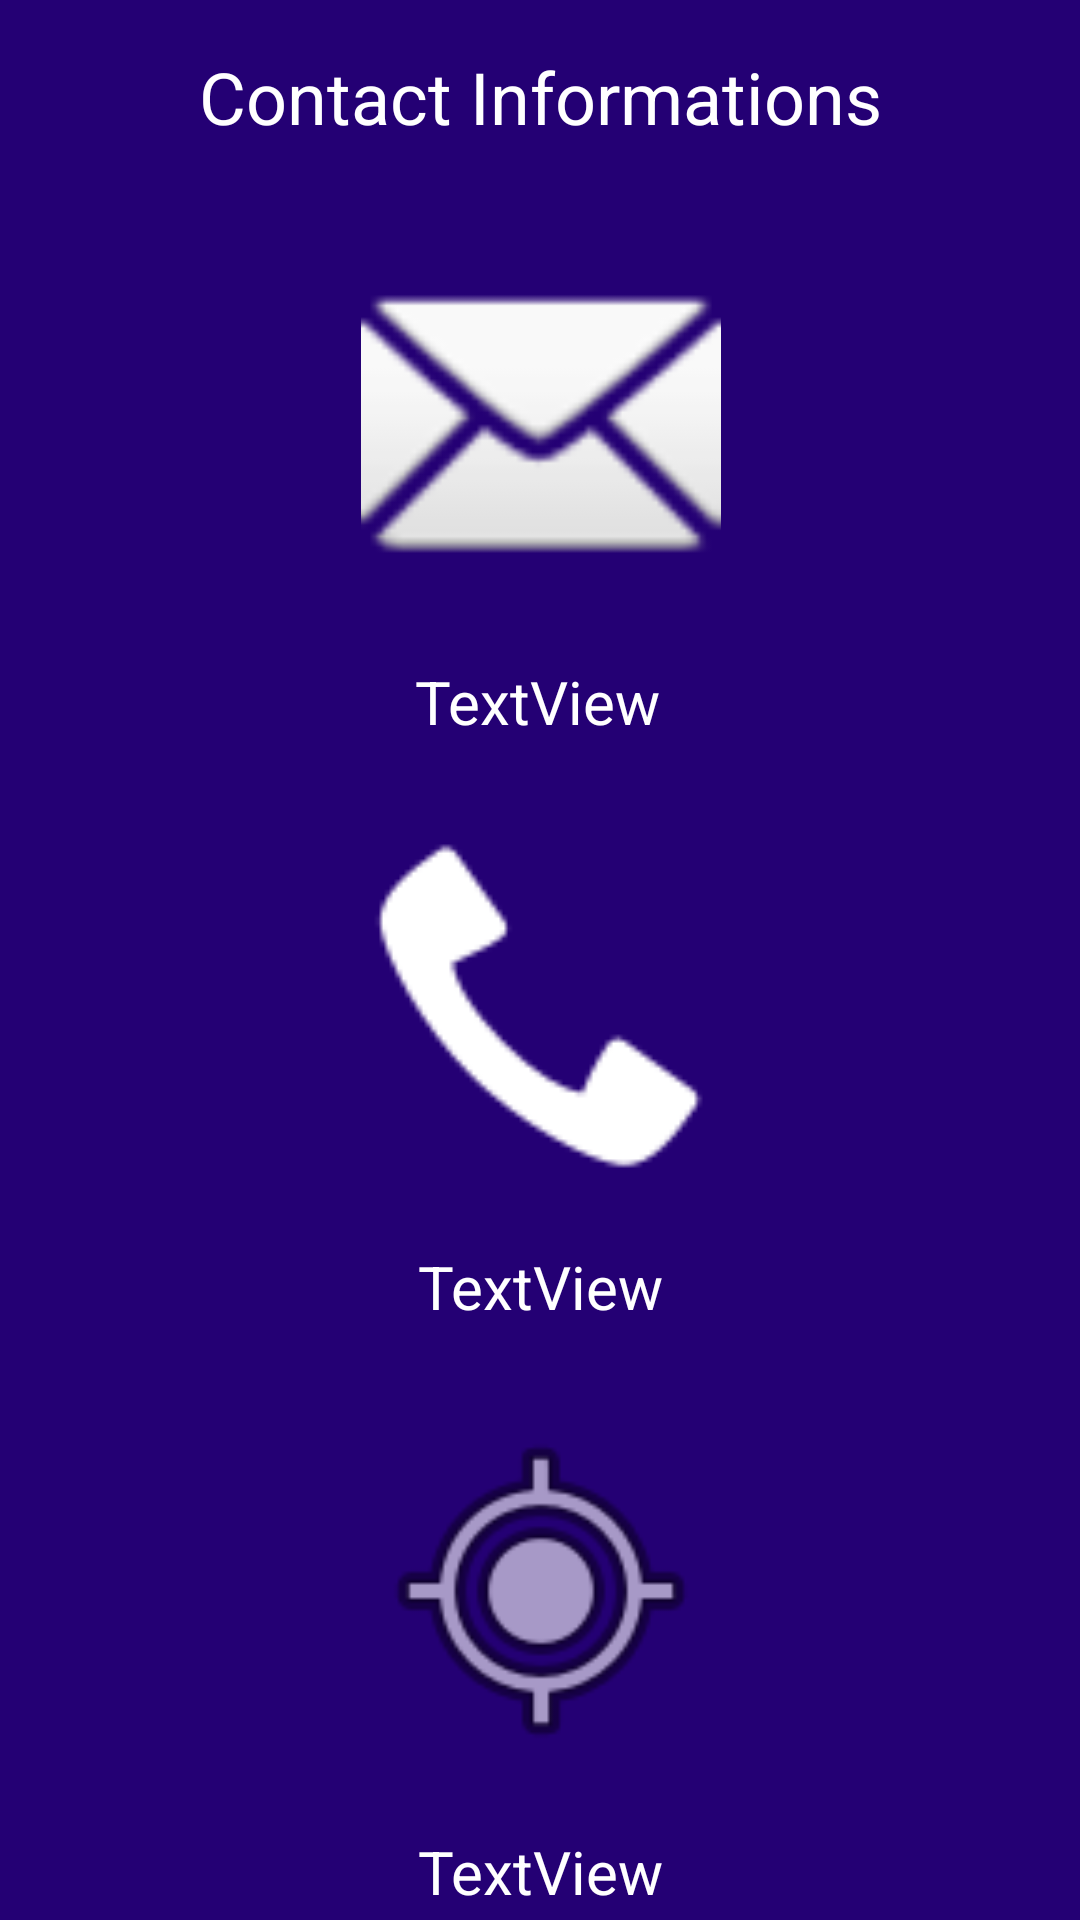

Where icons sit on this 1080 x 1920 app screen, as bbox=(x1, y1, x2, y2):
email: bbox=(361, 296, 721, 552)
mylocation: bbox=(398, 1448, 684, 1734)
phone call: bbox=(379, 844, 702, 1168)
